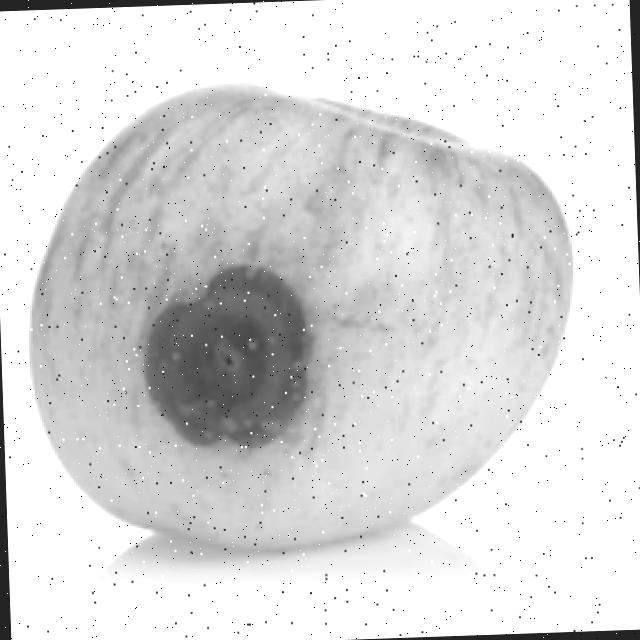Rotten: (13, 61, 590, 564)
